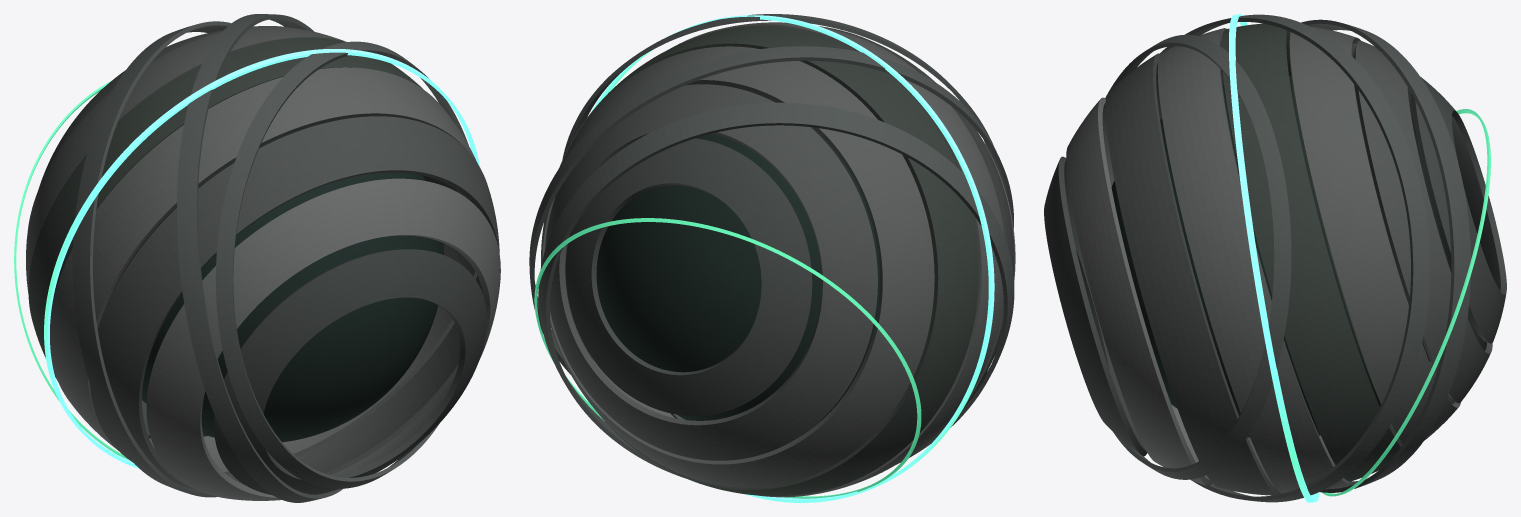
File: penetix_security_core.glb
3 views of the same model, side by side, from view 1: azimuth 30°, elevation 25°; view 2: azimuth 150°, elevation 25°; view 3: azimuth 270°, elevation 25° (orthographic).
Parts seen in each view (by area): view 1: Primary_Ribbon_06, Primary_Ribbon_07, Primary_Ribbon_05, Protected_Core, Primary_Ribbon_08, Primary_Ribbon_04, Structural_Ribbon_02, Structural_Ribbon_03, Structural_Ribbon_01, Primary_Ribbon_03, Primary_Emerald_Scan, Secondary_Emerald_Accent (+1 smaller); view 2: Primary_Ribbon_02, Primary_Ribbon_03, Protected_Core, Primary_Ribbon_01, Primary_Ribbon_04, Structural_Ribbon_01, Primary_Ribbon_05, Structural_Ribbon_02, Primary_Emerald_Scan, Secondary_Emerald_Accent, Structural_Ribbon_03, Primary_Ribbon_06; view 3: Primary_Ribbon_05, Primary_Ribbon_04, Primary_Ribbon_06, Primary_Ribbon_03, Primary_Ribbon_07, Structural_Ribbon_02, Primary_Ribbon_02, Structural_Ribbon_03, Structural_Ribbon_01, Primary_Ribbon_08, Primary_Ribbon_01, Protected_Core (+2 smaller).
Part boxes in pixels (x1,y1,x2,y2): Primary_Ribbon_06: (90,116,499,491); Primary_Ribbon_07: (146,178,500,500); Primary_Ribbon_05: (50,67,477,474); Protected_Core: (109,121,443,442); Primary_Ribbon_08: (214,249,486,494); Primary_Ribbon_04: (28,37,458,438); Structural_Ribbon_02: (177,14,343,502); Structural_Ribbon_03: (215,41,468,488); Structural_Ribbon_01: (72,21,231,497); Primary_Ribbon_03: (26,26,345,294); Primary_Emerald_Scan: (44,49,479,468); Secondary_Emerald_Accent: (14,81,128,459); Primary_Ribbon_02: (545,84,877,460); Primary_Ribbon_03: (541,46,934,487); Protected_Core: (596,88,879,434); Primary_Ribbon_01: (565,138,812,415); Primary_Ribbon_04: (559,26,979,496); Structural_Ribbon_01: (538,102,1014,477); Primary_Ribbon_05: (569,22,1004,497); Structural_Ribbon_02: (529,46,1013,374); Primary_Emerald_Scan: (591,15,994,502); Secondary_Emerald_Accent: (534,218,921,498); Structural_Ribbon_03: (562,14,998,171); Primary_Ribbon_06: (670,26,1014,456); Primary_Ribbon_05: (1157,28,1351,493); Primary_Ribbon_04: (1221,23,1403,481); Primary_Ribbon_06: (1105,53,1281,495); Primary_Ribbon_03: (1289,26,1460,443); Primary_Ribbon_07: (1066,97,1211,486); Structural_Ribbon_02: (1160,14,1430,502); Primary_Ribbon_02: (1353,40,1492,403); Structural_Ribbon_03: (1105,34,1291,479); Structural_Ribbon_01: (1301,19,1470,492); Primary_Ribbon_08: (1044,156,1147,456); Primary_Ribbon_01: (1411,77,1506,343); Protected_Core: (1111,75,1451,437).
Bounding box in the file's own units: 3.25 × 3.21 × 3.05.
